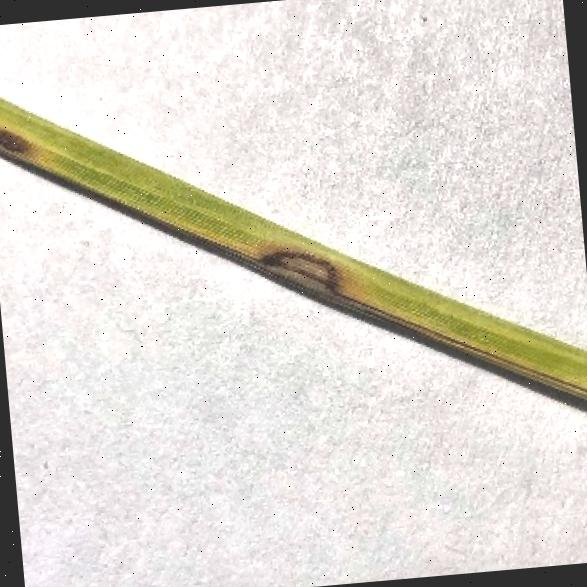Leaf_smut: (248, 226, 358, 308)
